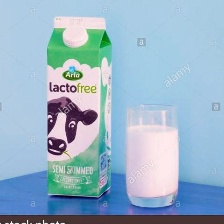carton: (43, 14, 116, 202)
glass: (124, 101, 180, 211)
